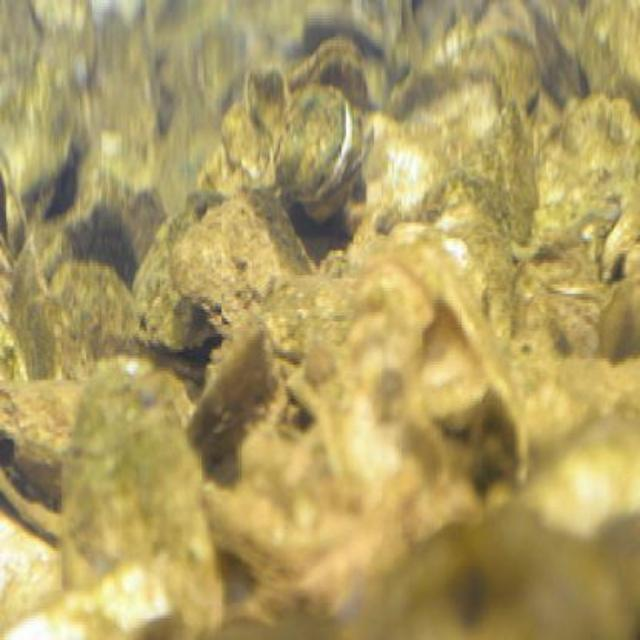Oyster-Closed: (63, 361, 226, 640), (171, 198, 311, 328), (532, 101, 640, 254), (136, 181, 224, 357), (521, 429, 640, 544), (190, 317, 275, 460), (48, 266, 138, 385), (276, 76, 352, 208), (263, 272, 362, 357), (286, 39, 374, 115), (599, 268, 640, 357)
Oyster-Open: (0, 377, 84, 540)
